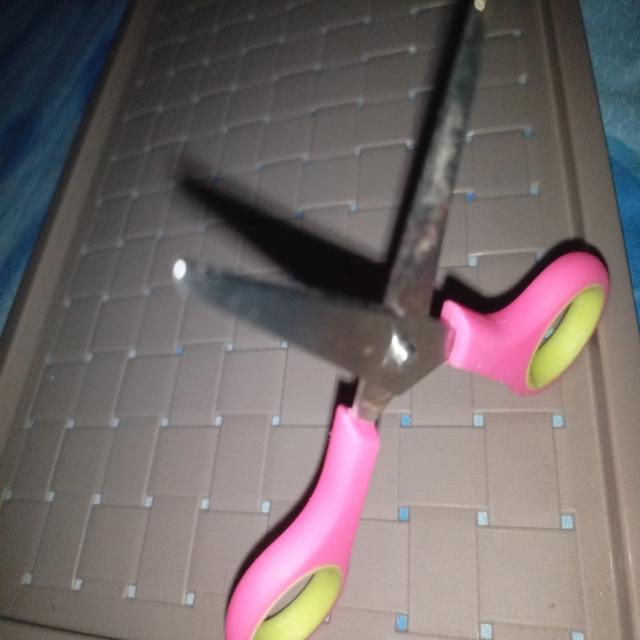Gunting: (141, 0, 610, 640)
